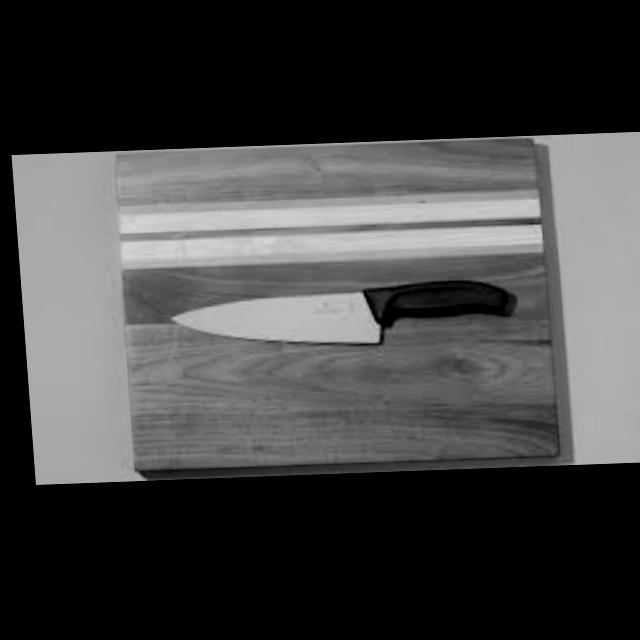knife: (162, 281, 514, 354)
